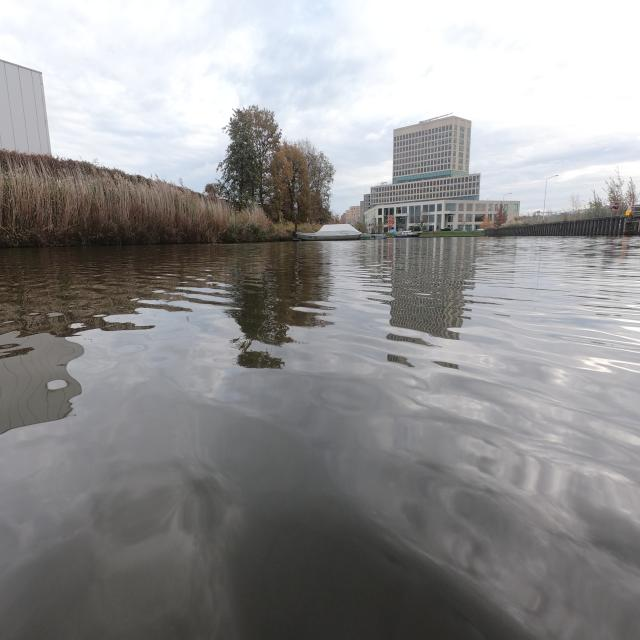reed: (0, 150, 294, 248), (298, 222, 322, 232)
wall: (485, 216, 637, 236)
water: (0, 238, 640, 640)
